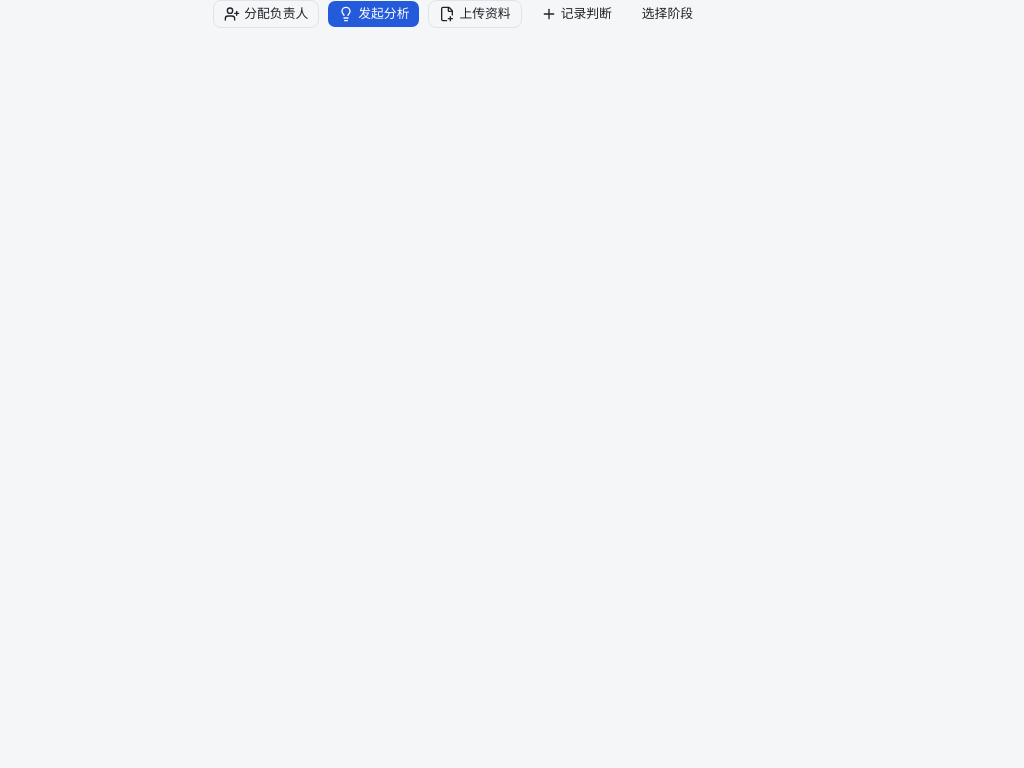
Test: project workflow actions › labels unmeasured assignment profiles without claiming zero workload
This screenshot has width=1024, height=768.
Click the button "分配负责人".
click(266, 14)  # box [213,0,319,28]
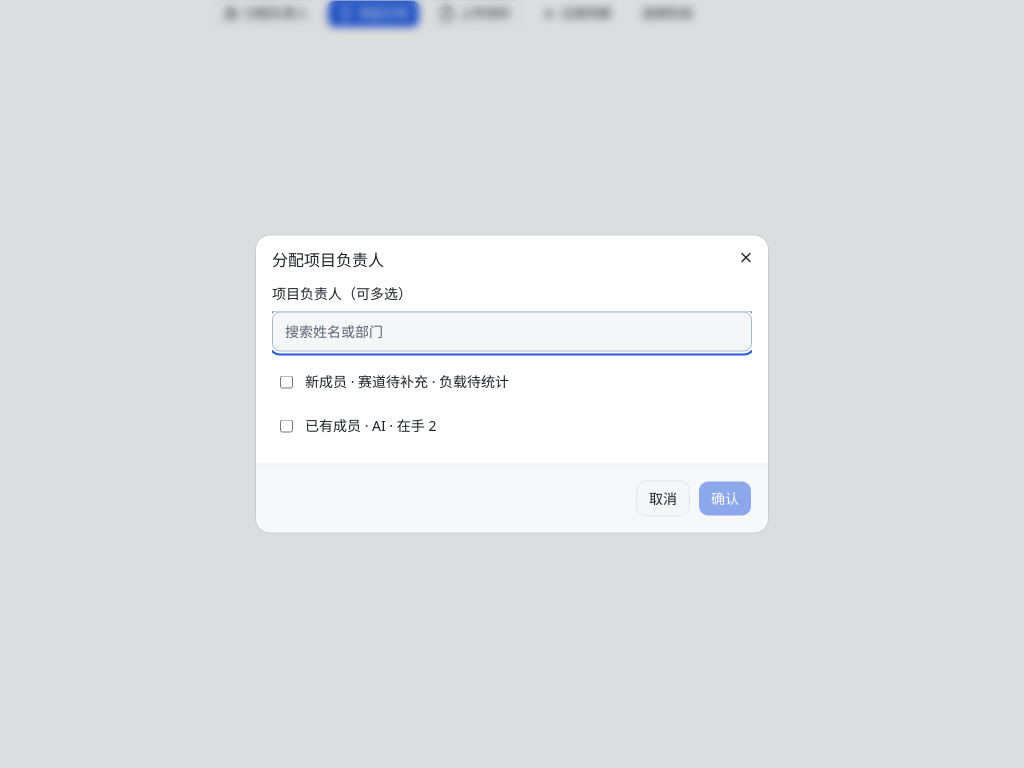
Expected: the checkbox labelled "新成员 · 赛道待补充 · 负载待统计" is shown, [280,375,293,388]
Expected: the checkbox labelled "已有成员 · AI · 在手 2" is shown, [280,419,293,432]
